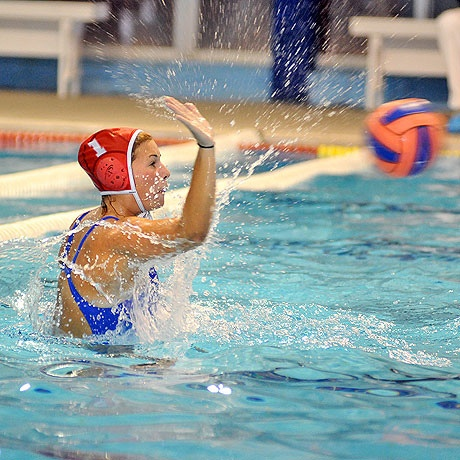head: (78, 127, 170, 215)
person: (47, 97, 220, 346)
